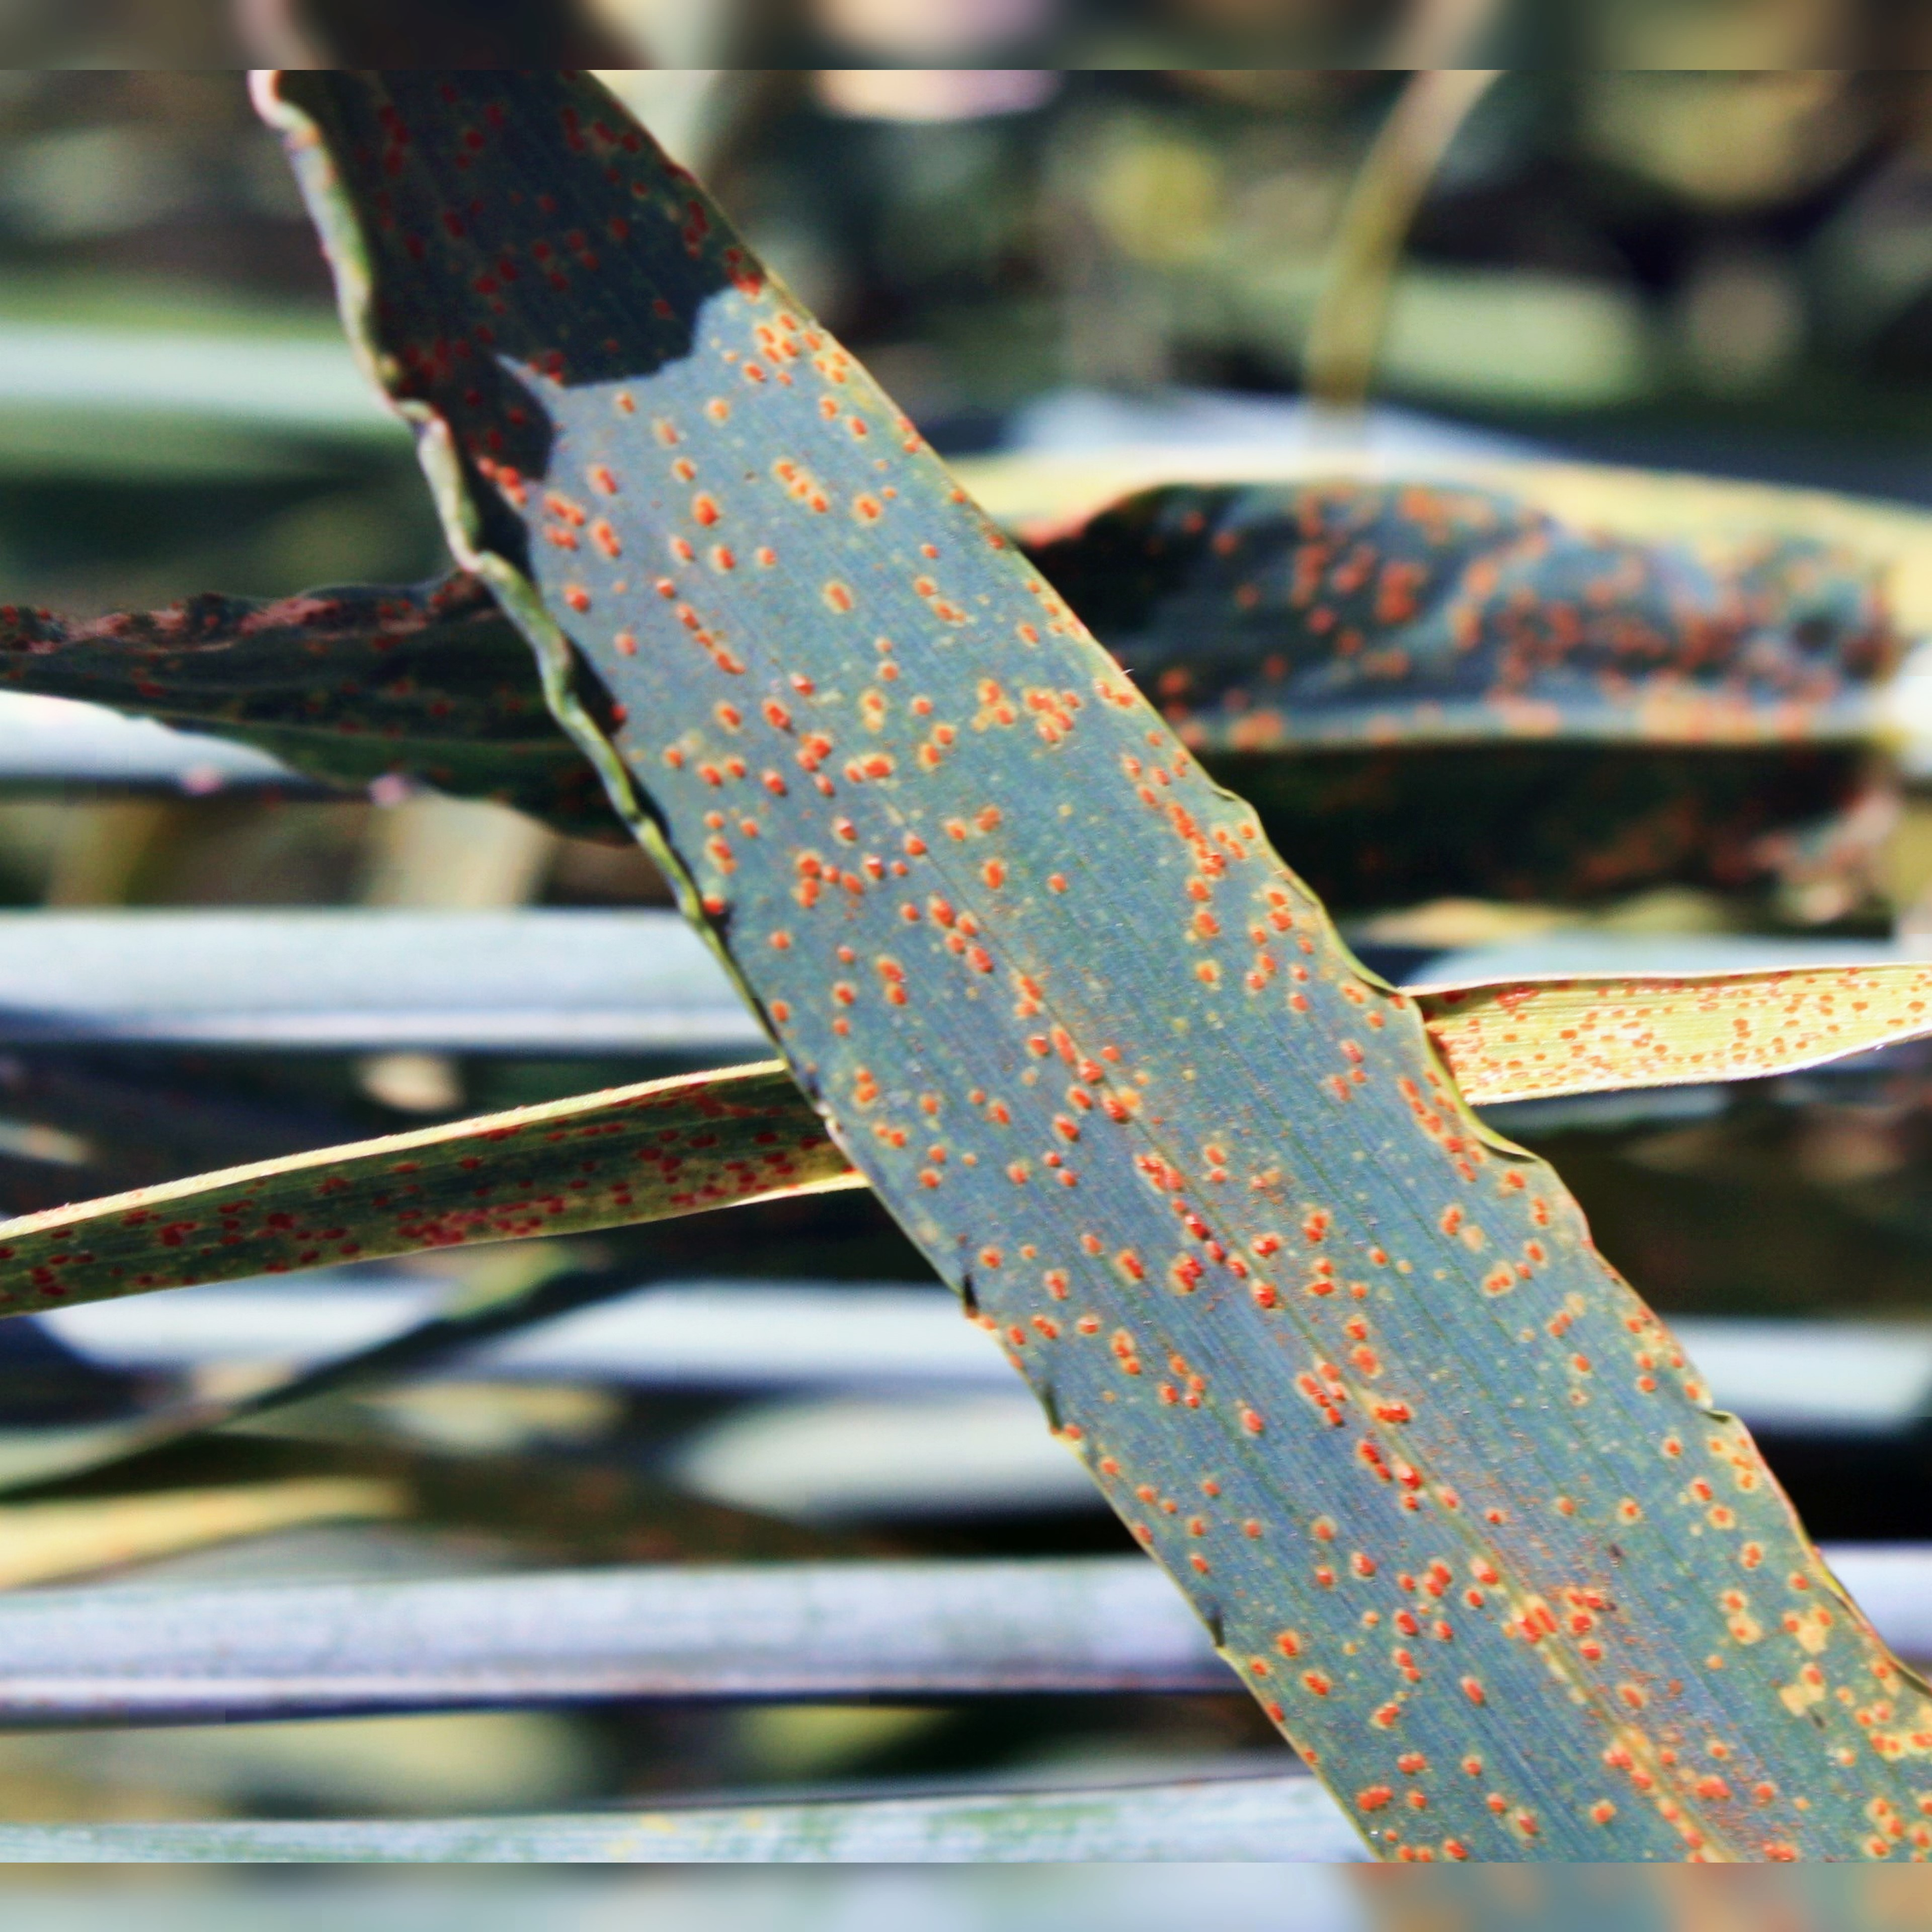Leaf Rust: (587, 368, 1822, 1879)
